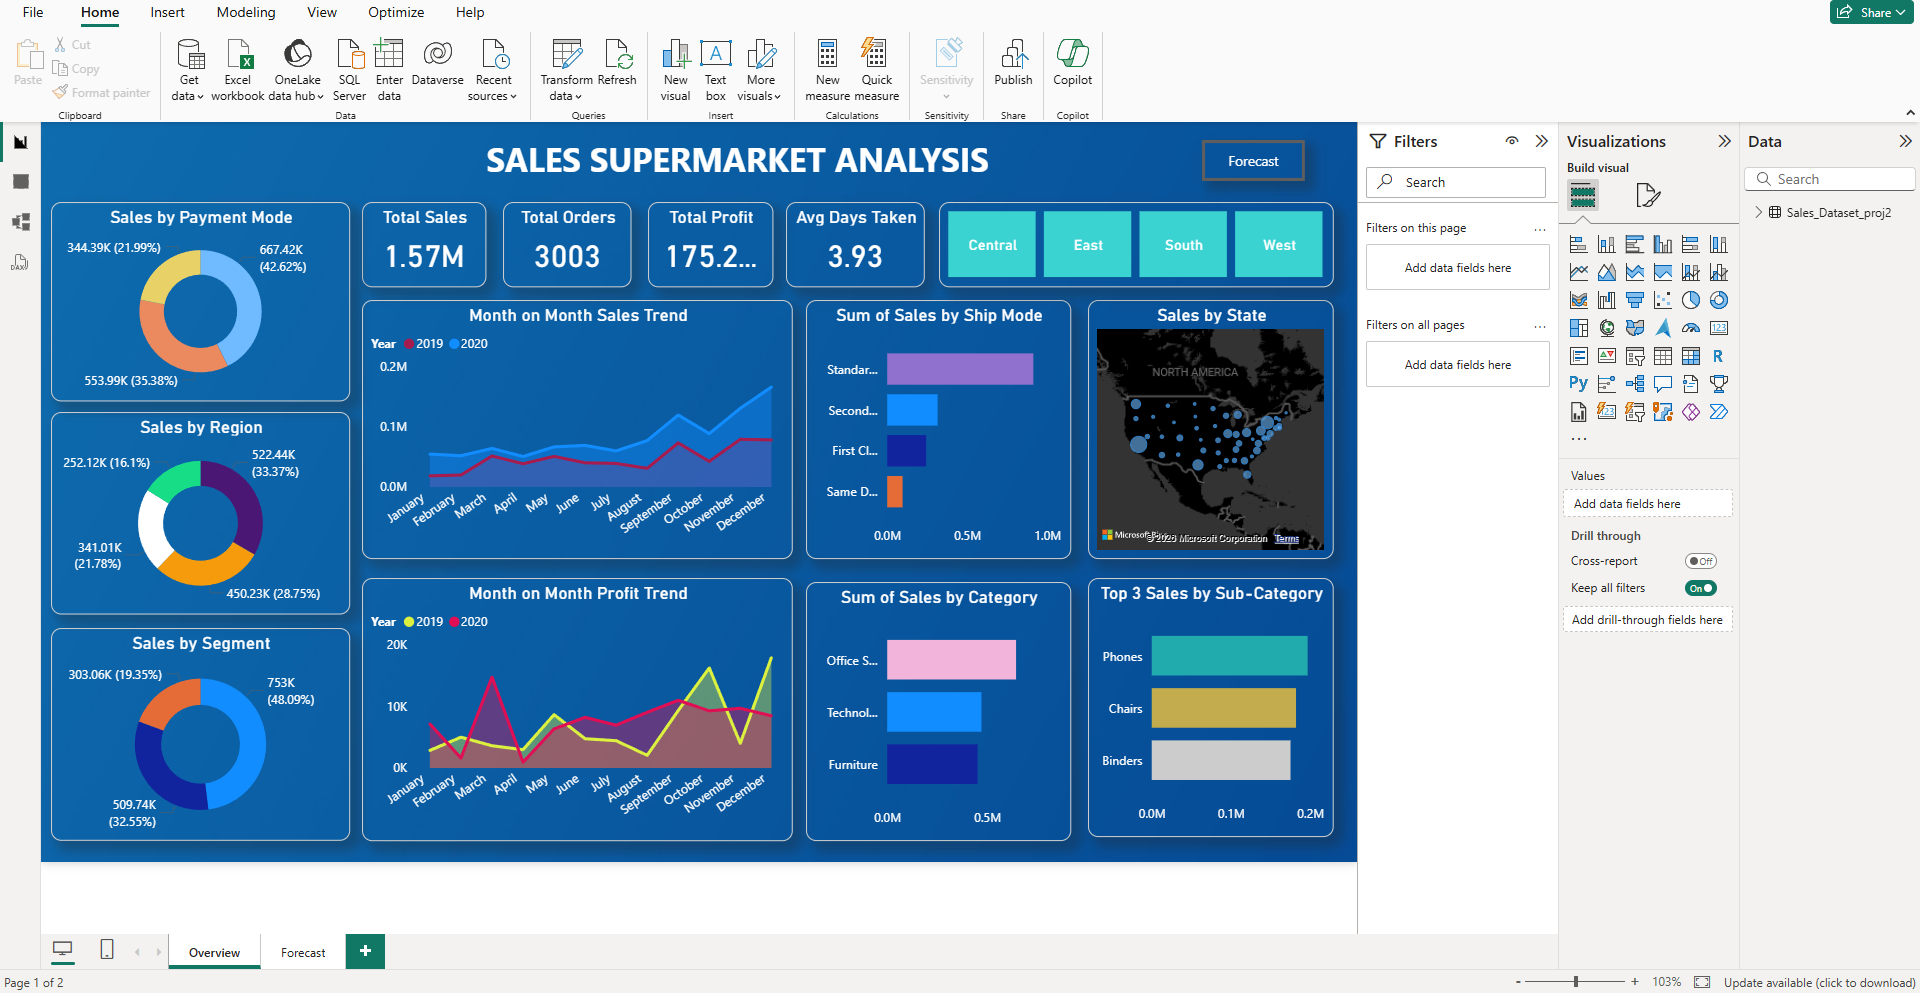

The page's visual inventory and layout, read from the dashboard file:
{"tool":"powerbi","page":{"name":"Overview","canvas":[1280,720],"ordinal":0},"visuals":[{"type":"textbox","box":[259.7,8.8,835.5,57.4],"z":0},{"type":"card","title":"Total Sales","fields":{"Values":["Sum(Sales_Dataset_proj2.Sales)"]},"box":[312.2,77.8,120.6,82.7],"z":1000},{"type":"card","title":"Total Orders","fields":{"Values":["Count(Sales_Dataset_proj2.Order ID)"]},"box":[449.4,77.8,125.5,82.7],"z":2000},{"type":"card","title":"Total Profit","fields":{"Values":["Sum(Sales_Dataset_proj2.Profit)"]},"box":[590.4,77.8,121.6,82.7],"z":3000},{"type":"card","title":"Avg Days Taken","fields":{"Values":["Avg(Sales_Dataset_proj2.Days Taken)"]},"box":[724.6,77.8,135.2,82.7],"z":4000},{"type":"donutChart","title":"Sales by Payment Mode","fields":{"Category":["Sales_Dataset_proj2.Payment Mode"],"Y":["Sum(Sales_Dataset_proj2.Sales)"]},"box":[9.7,77.8,290.8,193.6],"z":5000},{"type":"donutChart","title":"Sales by Region","fields":{"Category":["Sales_Dataset_proj2.Region"],"Y":["Sum(Sales_Dataset_proj2.Sales)"]},"box":[9.7,282.1,290.8,197.4],"z":6000},{"type":"donutChart","title":"Sales by Segment","fields":{"Category":["Sales_Dataset_proj2.Segment"],"Y":["Sum(Sales_Dataset_proj2.Sales)"]},"box":[9.7,492.2,290.8,207.2],"z":7000},{"type":"areaChart","title":"Month on Month Sales Trend","fields":{"Y":["Sum(Sales_Dataset_proj2.Sales)"],"Category":["Sales_Dataset_proj2.Order Date.Variation.Date Hierarchy.Month"],"Series":["Sales_Dataset_proj2.Order Date.Variation.Date Hierarchy.Year"]},"box":[312.2,173.1,419.2,251.9],"z":8000},{"type":"areaChart","title":"Month on Month Profit Trend","fields":{"Y":["Sum(Sales_Dataset_proj2.Profit)"],"Category":["Sales_Dataset_proj2.Order Date.Variation.Date Hierarchy.Month"],"Series":["Sales_Dataset_proj2.Order Date.Variation.Date Hierarchy.Year"]},"box":[312.2,443.5,419.2,255.8],"z":9000},{"type":"barChart","title":"Sum of Sales by Ship Mode","fields":{"Y":["Sum(Sales_Dataset_proj2.Sales)"],"Category":["Sales_Dataset_proj2.Ship Mode"],"Series":["Sales_Dataset_proj2.Ship Mode"]},"box":[744.1,173.1,257.8,251.9],"z":10000},{"type":"barChart","title":"Sum of Sales by Category","fields":{"Y":["Sum(Sales_Dataset_proj2.Sales)"],"Category":["Sales_Dataset_proj2.Category"],"Series":["Sales_Dataset_proj2.Category"]},"box":[744.1,447.4,257.8,251.9],"z":11000},{"type":"map","title":"Sales by State","fields":{"Category":["Sales_Dataset_proj2.State"],"Size":["Sum(Sales_Dataset_proj2.Sales)"]},"box":[1018.4,173.1,239.3,251.9],"z":12000},{"type":"barChart","title":"Top 3 Sales by Sub-Category","fields":{"Y":["Sum(Sales_Dataset_proj2.Sales)"],"Category":["Sales_Dataset_proj2.Sub-Category"],"Series":["Sales_Dataset_proj2.Sub-Category"]},"box":[1018.4,443.5,239.3,251.9],"z":13000},{"type":"advancedSlicerVisual","fields":{"Values":["Sales_Dataset_proj2.Region"]},"box":[873.4,77.8,384.2,82.7],"z":14000},{"type":"actionButton","box":[1129.2,17.5,100.2,39.9],"z":15000}]}

Visuals, with their boxes on the page's 1280x720 design canvas (x1, y1, x2, y2). These are canvas units, not pixel positions in the 1920x993 screenshot, which may show the page scaled, cropped or inside an application window:
textbox: [260,9,1095,66]
"Total Sales" card: [312,78,433,160]
"Total Orders" card: [449,78,575,160]
"Total Profit" card: [590,78,712,160]
"Avg Days Taken" card: [725,78,860,160]
"Sales by Payment Mode" donutChart: [10,78,300,271]
"Sales by Region" donutChart: [10,282,300,480]
"Sales by Segment" donutChart: [10,492,300,699]
"Month on Month Sales Trend" areaChart: [312,173,731,425]
"Month on Month Profit Trend" areaChart: [312,444,731,699]
"Sum of Sales by Ship Mode" barChart: [744,173,1002,425]
"Sum of Sales by Category" barChart: [744,447,1002,699]
"Sales by State" map: [1018,173,1258,425]
"Top 3 Sales by Sub-Category" barChart: [1018,444,1258,695]
advancedSlicerVisual - Sales_Dataset_proj2.Region: [873,78,1258,160]
actionButton: [1129,18,1229,57]
